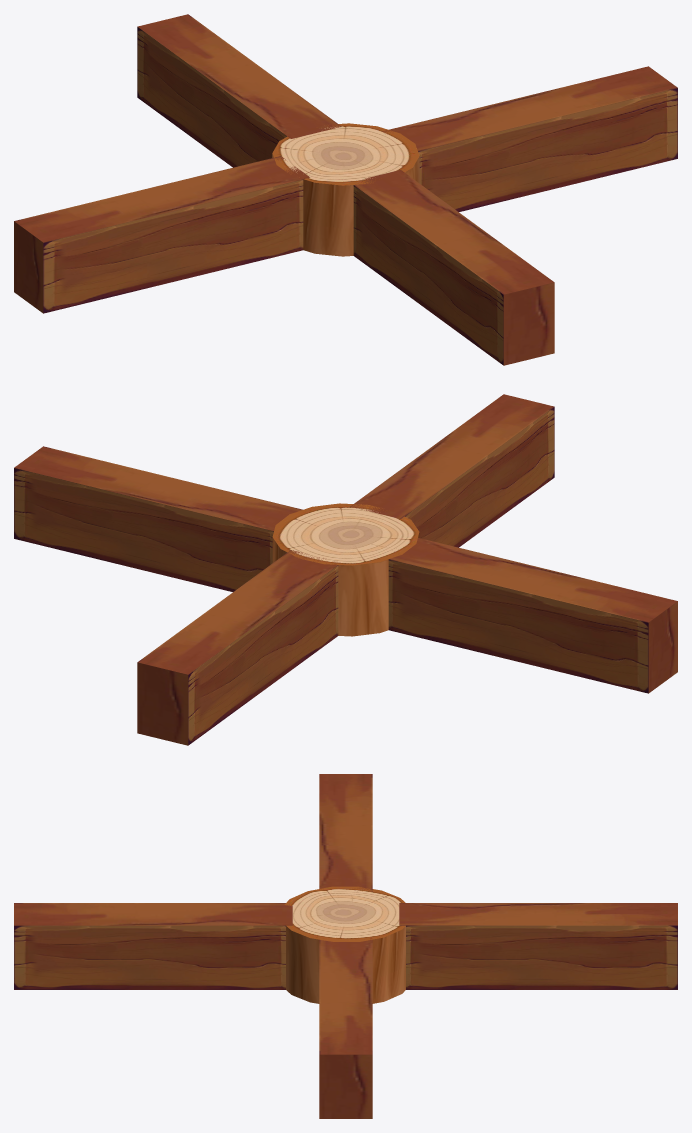
File: four_blade_wood_02.fbx
3 renders of one model, top to bottom at view 1: azimuth 30°, elevation 25°; view 2: azimuth 150°, elevation 25°; view 3: azimuth 270°, elevation 25°, orthographic. The views are drawn at different scales.
Parts seen in each view (by area): view 1: Blade_34, Blade_33, Blade_32, Blade_31, wood_center_25; view 2: Blade_34, Blade_33, Blade_31, Blade_32, wood_center_25; view 3: Blade_31, Blade_32, wood_center_25, Blade_33, Blade_34.
Part boxes in pixels (bbox=[...]): Blade_34: bbox=[14, 156, 309, 313]; Blade_33: bbox=[382, 66, 677, 211]; Blade_32: bbox=[353, 170, 554, 365]; Blade_31: bbox=[137, 14, 341, 167]; wood_center_25: bbox=[272, 123, 419, 256]; Blade_34: bbox=[388, 538, 677, 693]; Blade_33: bbox=[14, 446, 302, 591]; Blade_31: bbox=[137, 550, 338, 745]; Blade_32: bbox=[350, 394, 554, 547]; wood_center_25: bbox=[272, 503, 419, 636]; Blade_31: bbox=[399, 903, 677, 989]; Blade_32: bbox=[14, 903, 292, 989]; wood_center_25: bbox=[284, 886, 405, 1003]; Blade_33: bbox=[319, 937, 372, 1118]; Blade_34: bbox=[319, 774, 372, 891].
Bounding box in the file's own units: 374 × 40 × 374.
